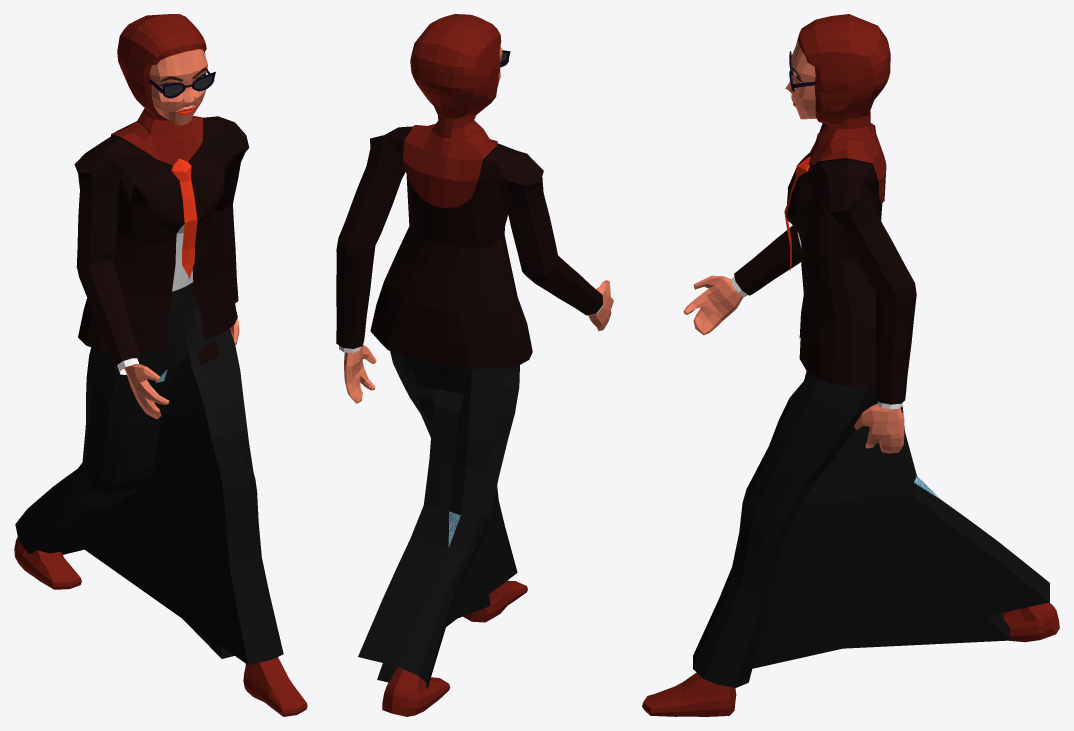
Rendered from ScientistFemale_A_Walk.fbx.
3 renders of one model, left to right at view 1: azimuth 30°, elevation 25°; view 2: azimuth 150°, elevation 25°; view 3: azimuth 270°, elevation 25°, orthographic. The views are drawn at different scales.
Parts seen in each view (by area): view 1: ScientistFemale_A_Walk; view 2: ScientistFemale_A_Walk; view 3: ScientistFemale_A_Walk.
Part boxes in pixels (x1=…): ScientistFemale_A_Walk: x1=14, y1=14, x2=307, y2=716; ScientistFemale_A_Walk: x1=336, y1=14, x2=613, y2=716; ScientistFemale_A_Walk: x1=642, y1=14, x2=1059, y2=716.
Bounding box in the file's own units: 0.281 × 0.8973 × 0.5064.
